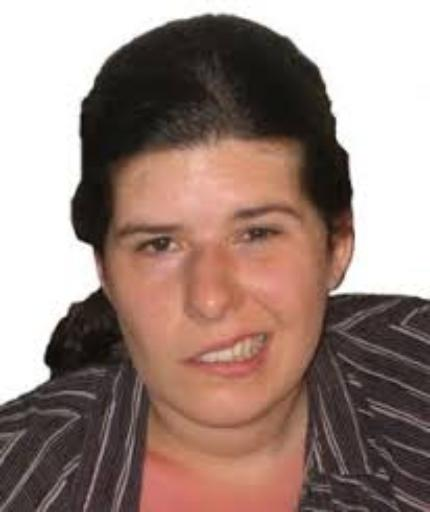left_eye: (234, 225, 288, 249)
left_lip_corner: (255, 326, 280, 345)
right_eye: (135, 235, 186, 257)
right_lip_corner: (174, 353, 197, 371)
